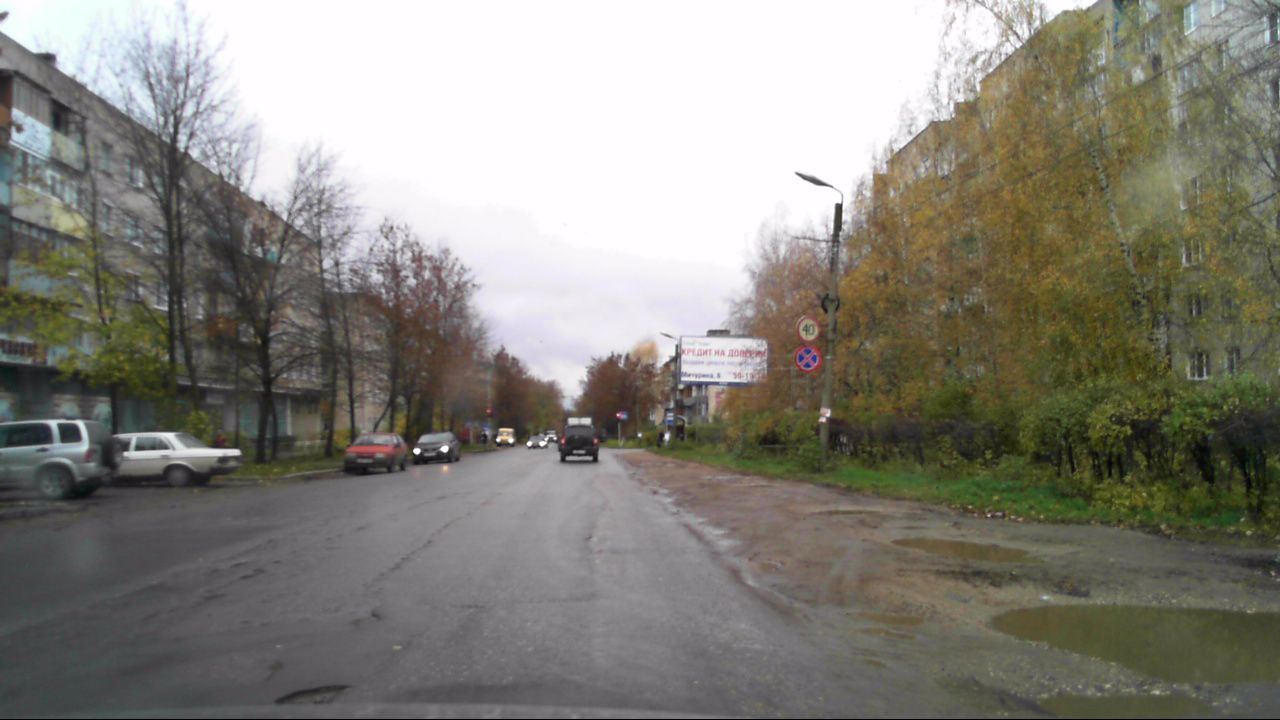No Parking: (792, 342, 823, 372)
speed_warning_40: (794, 315, 822, 342)
